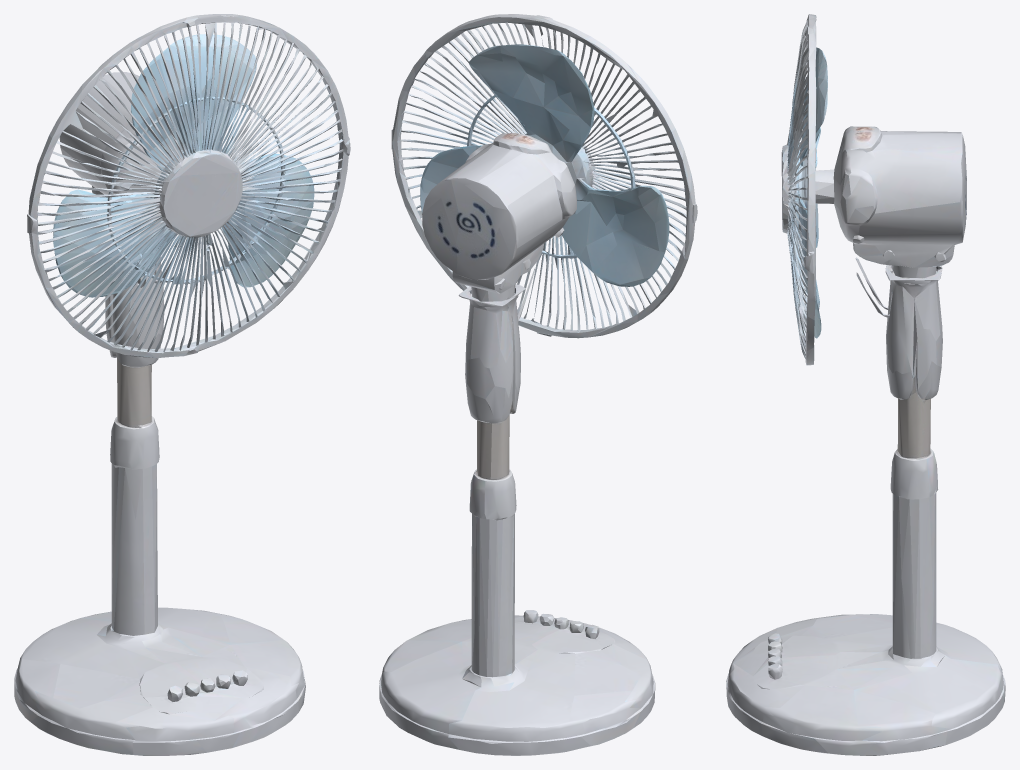
Rendered from w4standfan.glb.
The picture shows the model from 3 angles, left to right: view 1: azimuth 30°, elevation 25°; view 2: azimuth 150°, elevation 25°; view 3: azimuth 270°, elevation 25°; orthographic projection. The views are drawn at different scales.
Visible parts, largest first — view 1: output_unwrapped; view 2: output_unwrapped; view 3: output_unwrapped.
Boxes of the visible parts, x1,y1,x2,y2 form: output_unwrapped: (14, 14, 350, 755); output_unwrapped: (379, 14, 697, 755); output_unwrapped: (726, 14, 1005, 755).
Bounding box in the file's own units: 0.5711 × 1.2 × 0.4503.
1 material, 1 textured.
